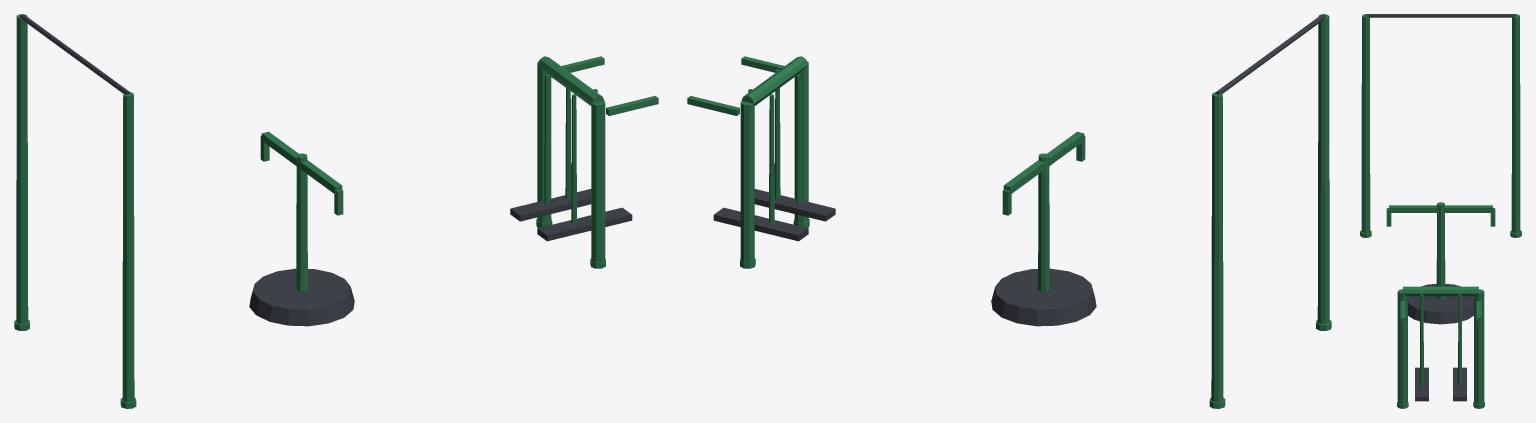
Rendered from park_fitness.glb.
The picture shows the model from 3 angles, left to right: view 1: azimuth 30°, elevation 25°; view 2: azimuth 150°, elevation 25°; view 3: azimuth 270°, elevation 25°; orthographic projection. The views are drawn at different scales.
Visible parts, largest first — view 1: Fitness_Steel, Fitness_Pad; view 2: Fitness_Steel, Fitness_Pad; view 3: Fitness_Steel, Fitness_Pad.
Part boxes in pixels (bbox=[...]): Fitness_Steel: bbox=[14, 14, 658, 408]; Fitness_Pad: bbox=[20, 14, 632, 326]; Fitness_Steel: bbox=[687, 14, 1331, 408]; Fitness_Pad: bbox=[713, 14, 1325, 326]; Fitness_Steel: bbox=[1360, 14, 1521, 408]; Fitness_Pad: bbox=[1366, 14, 1515, 401].
Bounding box in the file's own units: 0.3965 × 0.2117 × 0.14.
